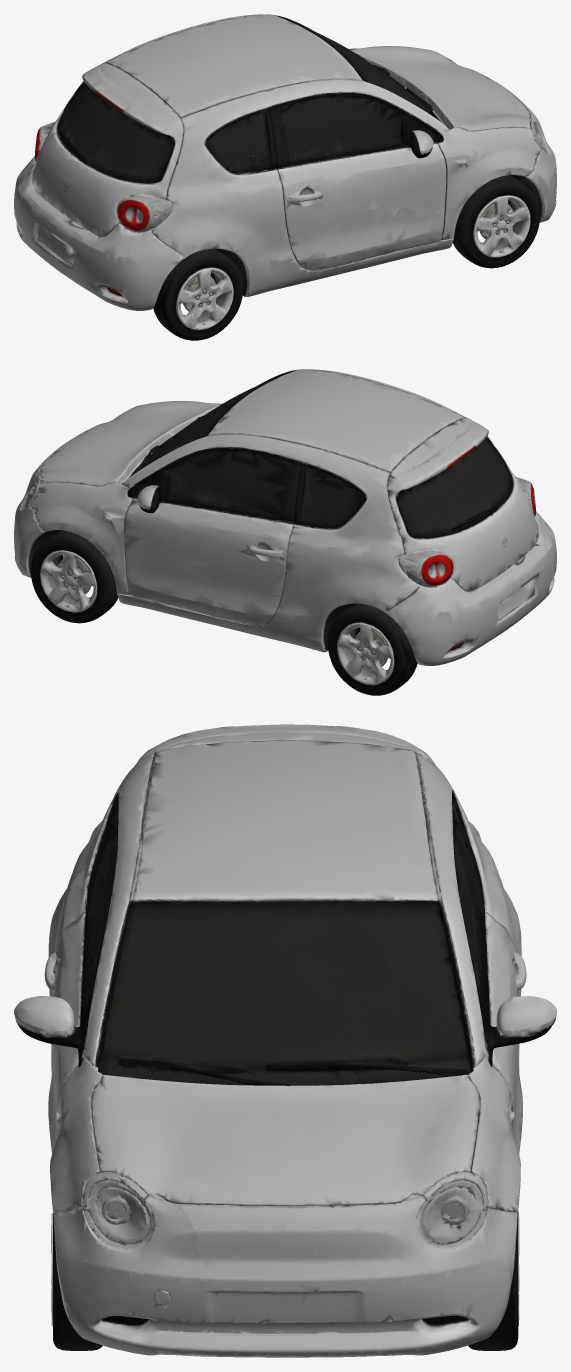
The model's file is body-compact.glb.
3 views of the same model, one above another, from view 1: azimuth 30°, elevation 25°; view 2: azimuth 150°, elevation 25°; view 3: azimuth 270°, elevation 25° (orthographic). The views are drawn at different scales.
Visible parts, largest first — view 1: tripo_node_ea92f720-d639-4ab3-be0b-1da01c6173e1; view 2: tripo_node_ea92f720-d639-4ab3-be0b-1da01c6173e1; view 3: tripo_node_ea92f720-d639-4ab3-be0b-1da01c6173e1.
Boxes of the visible parts, left/top/right/bottom form: tripo_node_ea92f720-d639-4ab3-be0b-1da01c6173e1: left=14, top=14, right=556, bottom=340; tripo_node_ea92f720-d639-4ab3-be0b-1da01c6173e1: left=14, top=369, right=556, bottom=695; tripo_node_ea92f720-d639-4ab3-be0b-1da01c6173e1: left=14, top=724, right=556, bottom=1357.
Size of the model in its own units: 0.9799 by 0.4322 by 0.5695.
1 material, 1 textured.
